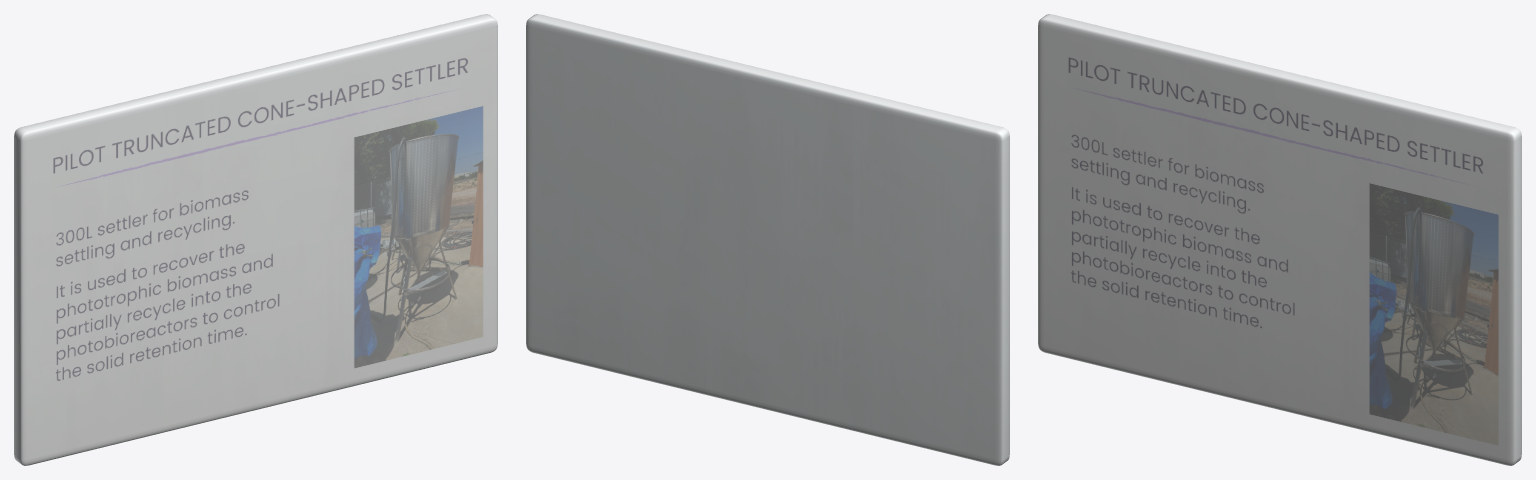
Rendered from Cartel_PTCSS_M.glb.
3 renders of one model, left to right at view 1: azimuth 30°, elevation 25°; view 2: azimuth 150°, elevation 25°; view 3: azimuth 330°, elevation 25°, orthographic.
Parts seen in each view (by area): view 1: Box011; view 2: Box011; view 3: Box011.
Part boxes in pixels (left/top/right/bottom): Box011: left=14, top=14, right=497, bottom=465; Box011: left=526, top=14, right=1009, bottom=465; Box011: left=1038, top=14, right=1521, bottom=465.
Size of the model in its own units: 1.1 by 0.7335 by 0.0348.
1 material, 1 textured.
